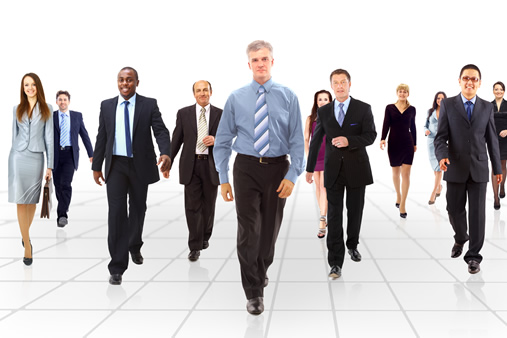background: (236, 36, 282, 91)
